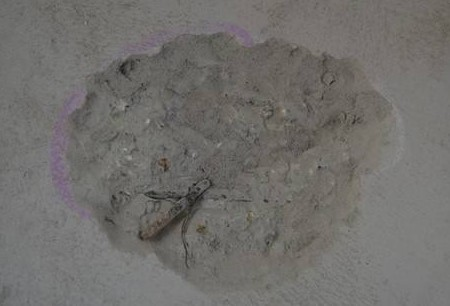Exposed reinforcement: (138, 178, 212, 241)
Spalling: (64, 31, 390, 293)
